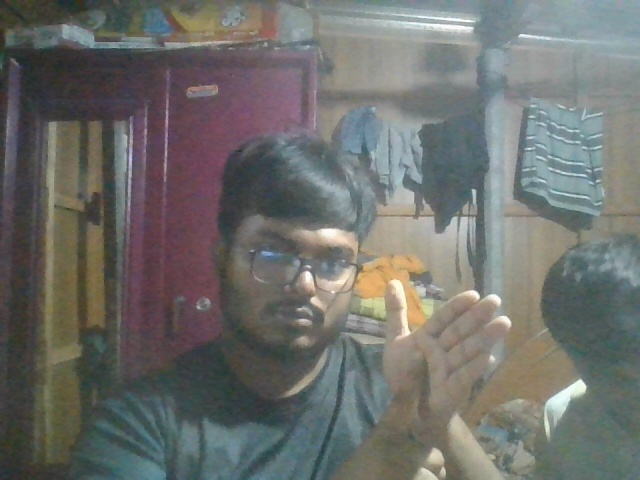r: (331, 271, 518, 480)
